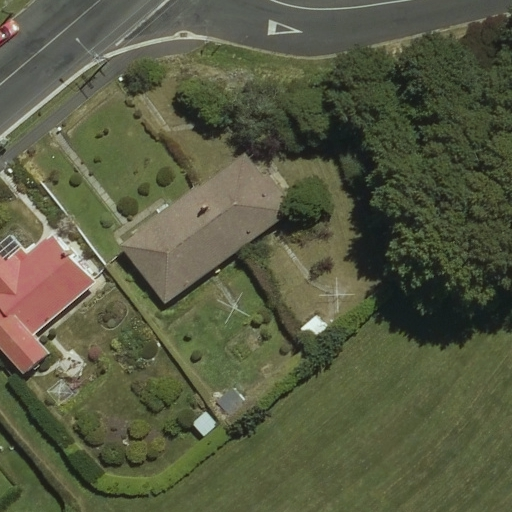DT: (71, 30, 113, 76)
